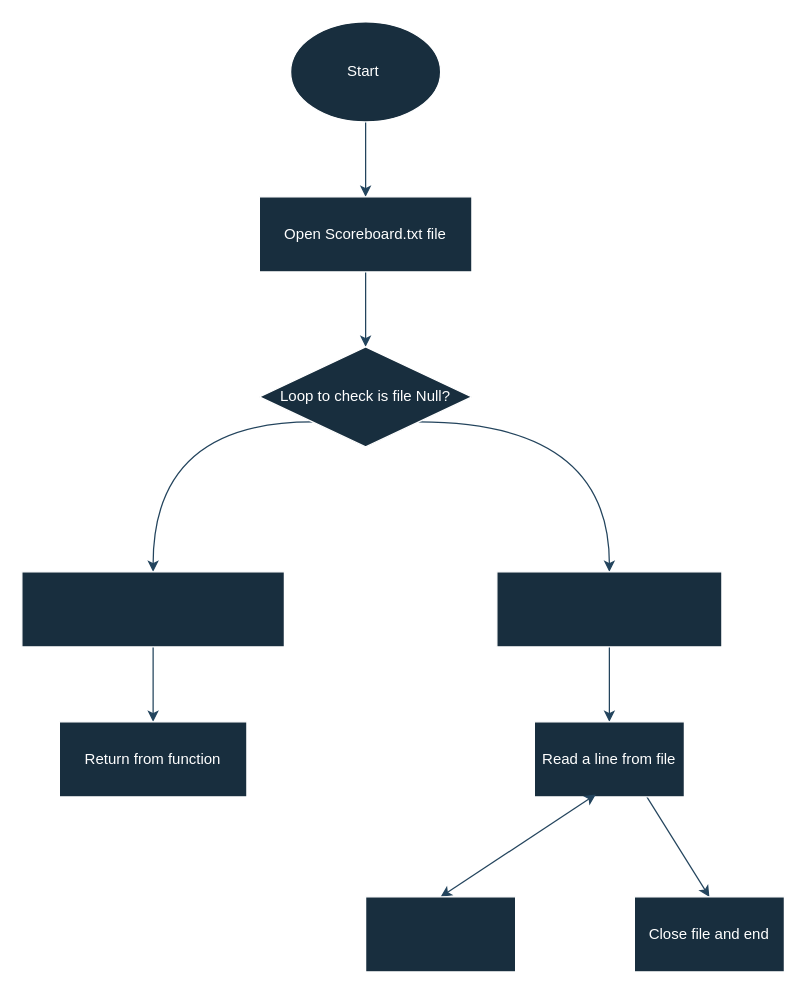
The diagram is 806 pixels wide and 994 high, and some of its shapes have lost their labels. The centre of each missing label's shape, as x and y in pixels:
Print error: Unable to open file: point (152, 609)
Print the line: point (440, 934)
Print: ---- Scoreboard ----: point (609, 609)
